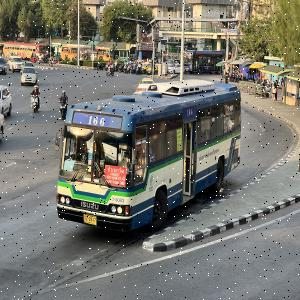BMTA-bus: (55, 78, 242, 233)
Bus Line Number: (84, 112, 108, 129)
Bus Side Number: (111, 194, 125, 205)
Destination Sign: (104, 164, 126, 189)
